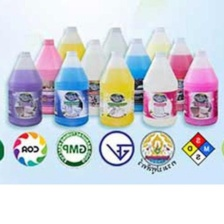cleaning_solution: (73, 36, 114, 118), (28, 36, 69, 117), (180, 47, 221, 127), (95, 48, 135, 129), (51, 50, 91, 128), (140, 49, 179, 129), (97, 24, 139, 98), (5, 50, 44, 128), (53, 26, 92, 99), (119, 36, 155, 114), (140, 24, 179, 96), (163, 35, 199, 113)
